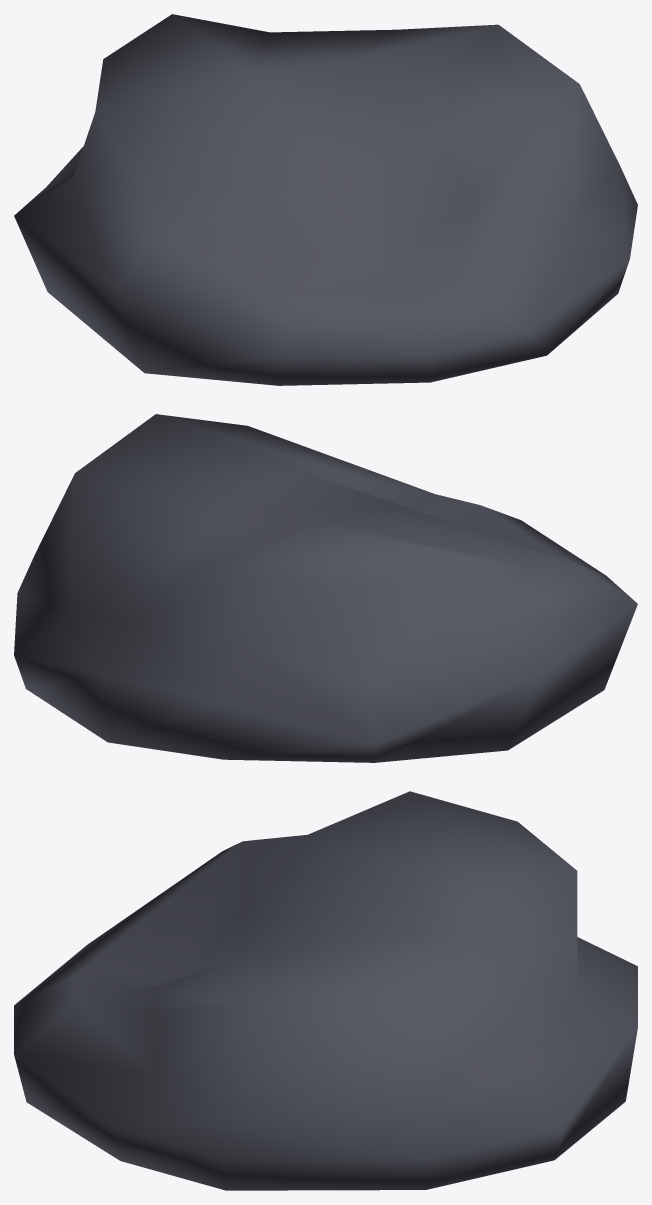
The model's file is Stone1.fbx.
3 views of the same model, one above another, from view 1: azimuth 30°, elevation 25°; view 2: azimuth 150°, elevation 25°; view 3: azimuth 270°, elevation 25° (orthographic). The views are drawn at different scales.
Visible parts, largest first — view 1: Stone_mid_003; view 2: Stone_mid_003; view 3: Stone_mid_003.
Boxes of the visible parts, <box> form: Stone_mid_003: <box>14,14,637,385</box>; Stone_mid_003: <box>14,414,637,762</box>; Stone_mid_003: <box>14,791,637,1190</box>.
Size of the model in its own units: 456 by 180 by 457.
